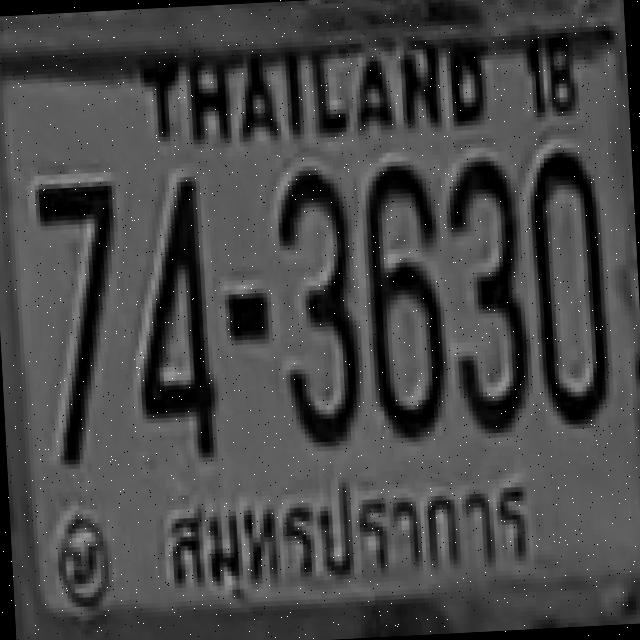0: (524, 144, 611, 424)
3: (272, 168, 363, 444), (442, 156, 529, 430)
4: (126, 171, 218, 456)
7: (30, 176, 121, 388), (30, 174, 120, 367), (30, 176, 120, 346)
SamutPrakan: (147, 457, 551, 605)
